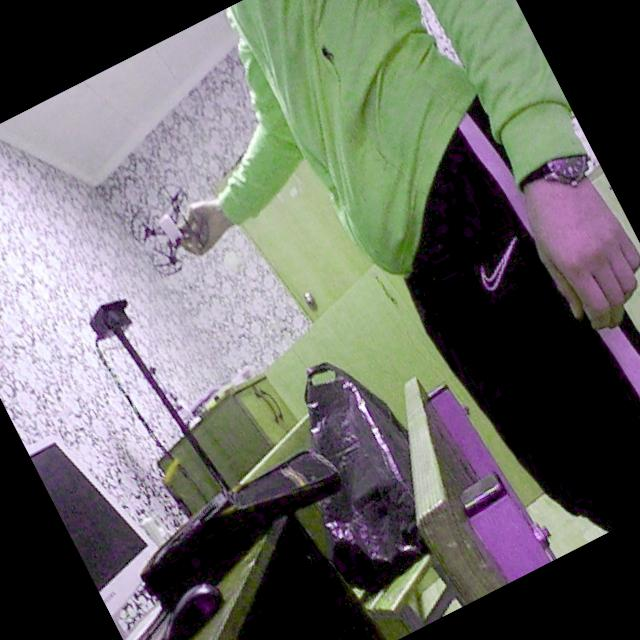drone: (110, 162, 233, 295)
